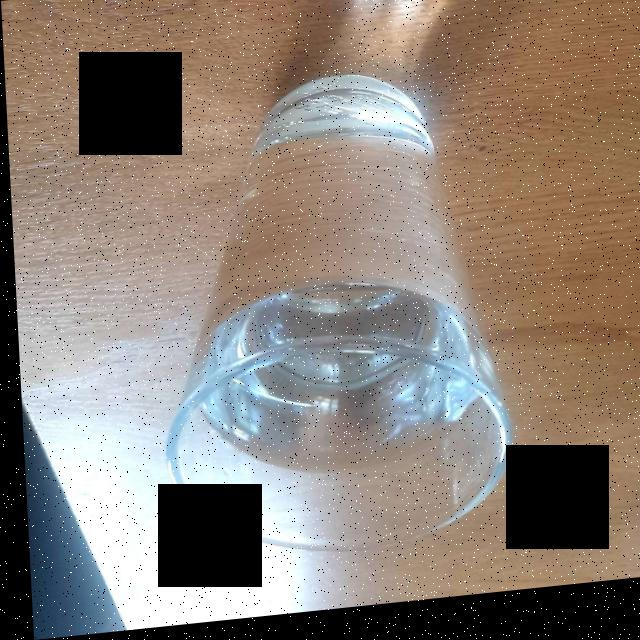water: (188, 103, 487, 456)
